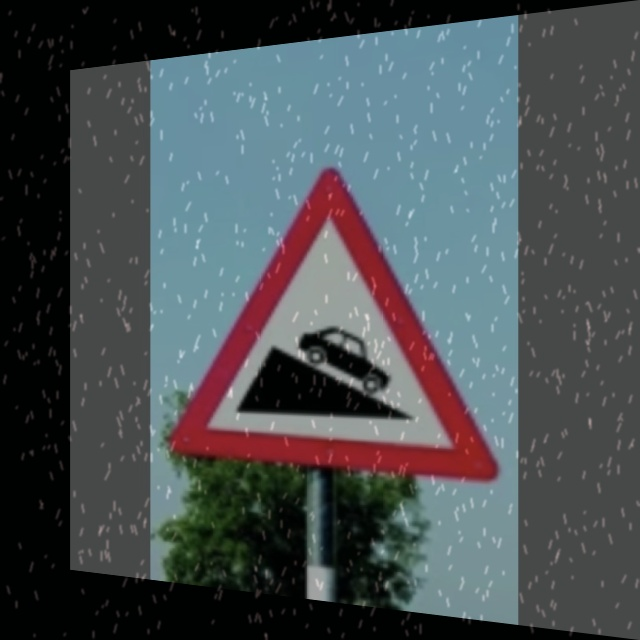Steep_Descent: (179, 163, 484, 484)
